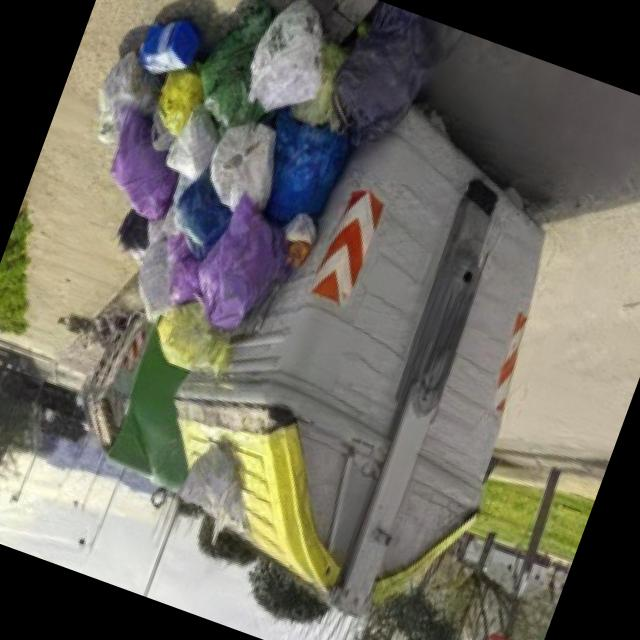high trash: (98, 0, 431, 372)
